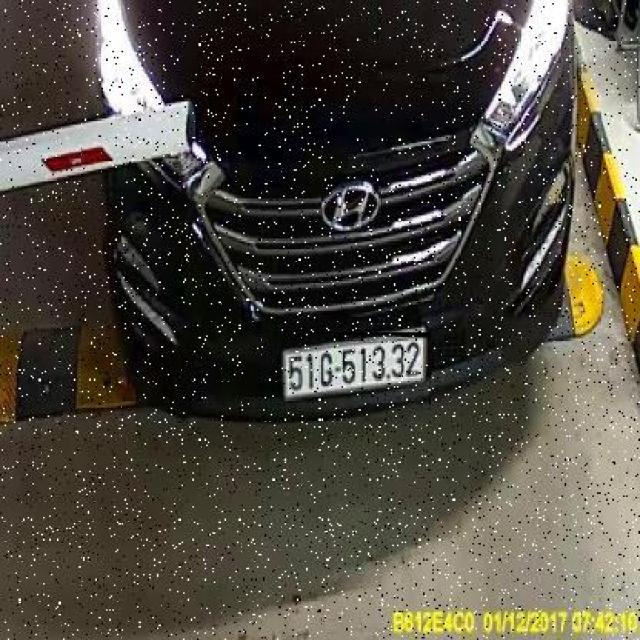number_plate: (280, 332, 432, 403)
